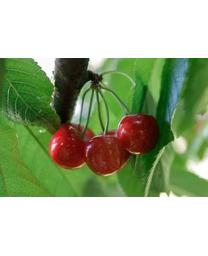cherry: (84, 131, 131, 177), (49, 125, 94, 169), (117, 113, 160, 155)
